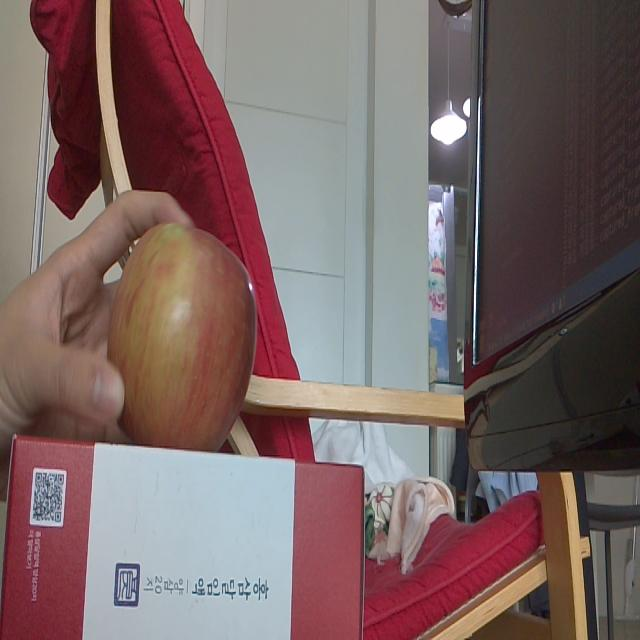apple: (107, 222, 258, 454)
